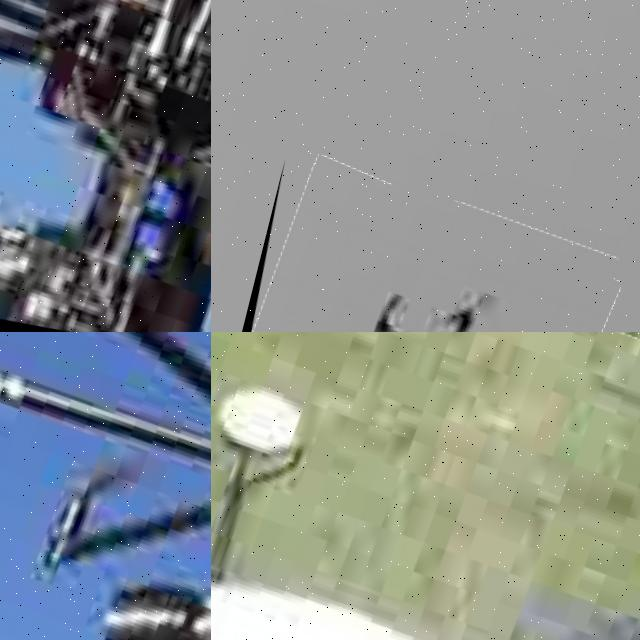drone: (211, 332, 640, 640), (218, 157, 622, 332), (0, 0, 211, 332), (0, 332, 211, 640)
